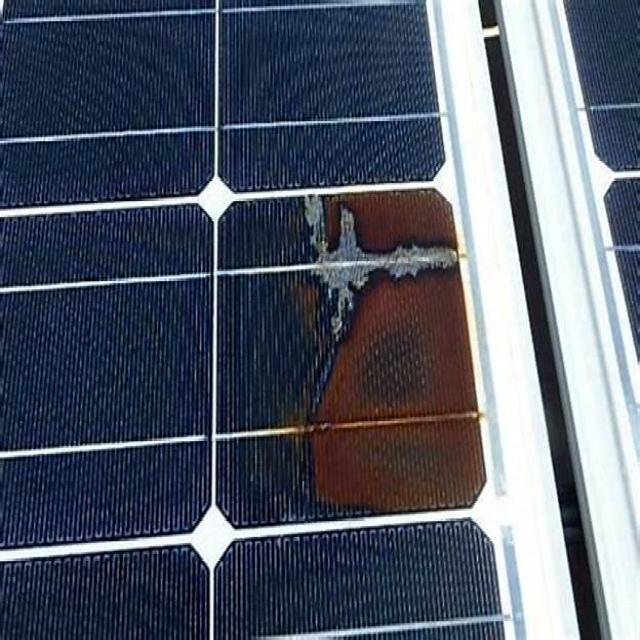shadow: (274, 180, 490, 530)
